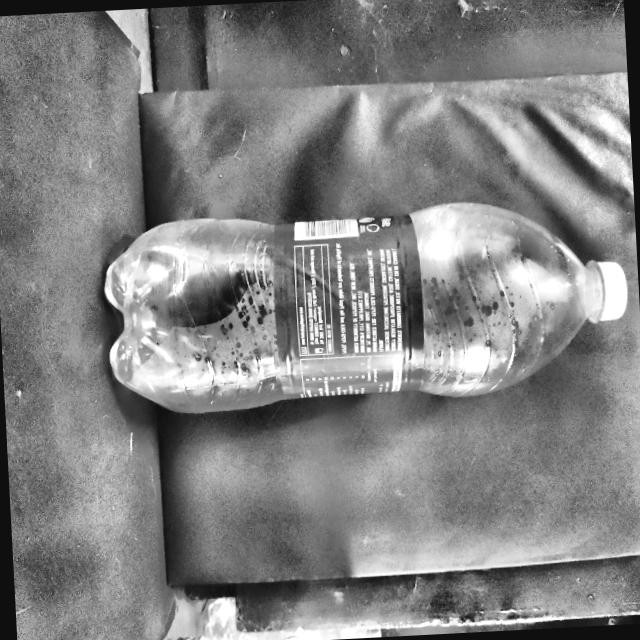Plastic-Bottle: (97, 192, 633, 420)
